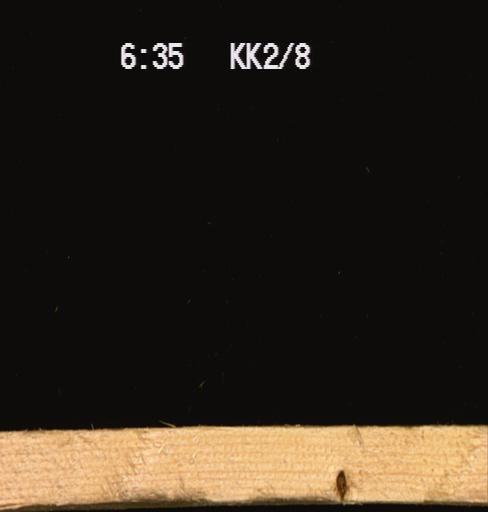dry_knot: (334, 466, 347, 500)
